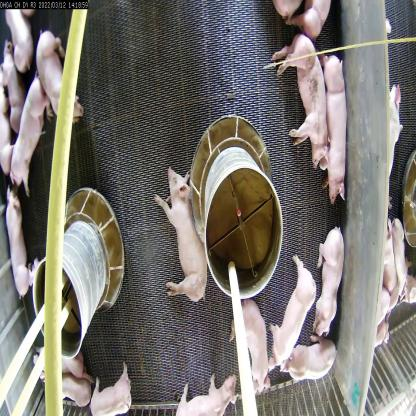Pig: (268, 34, 328, 173), (157, 160, 208, 303), (266, 245, 318, 380), (31, 14, 87, 130), (314, 52, 352, 206), (226, 288, 272, 395), (7, 70, 46, 184), (0, 181, 34, 309), (314, 214, 345, 341), (172, 368, 242, 414), (281, 327, 339, 382), (90, 357, 135, 416), (384, 86, 404, 204)
